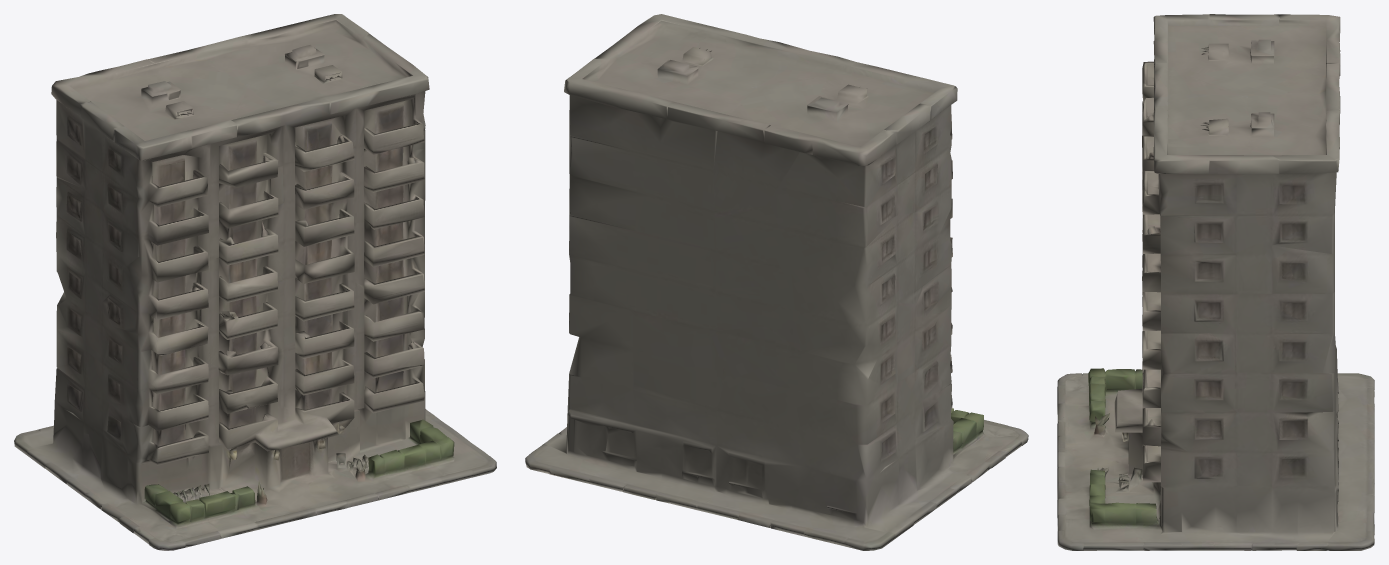
The model's file is lagos_tower_b.glb.
The picture shows the model from 3 angles, left to right: view 1: azimuth 30°, elevation 25°; view 2: azimuth 150°, elevation 25°; view 3: azimuth 270°, elevation 25°; orthographic projection. The views are drawn at different scales.
Parts seen in each view (by area): view 1: tripo_node_39b979a1-fc1a-4c19-9675-e0ddb55643b4; view 2: tripo_node_39b979a1-fc1a-4c19-9675-e0ddb55643b4; view 3: tripo_node_39b979a1-fc1a-4c19-9675-e0ddb55643b4.
Boxes of the visible parts, box(x1,y1,x2,y2) form: tripo_node_39b979a1-fc1a-4c19-9675-e0ddb55643b4: box(14, 14, 496, 550); tripo_node_39b979a1-fc1a-4c19-9675-e0ddb55643b4: box(525, 14, 1028, 550); tripo_node_39b979a1-fc1a-4c19-9675-e0ddb55643b4: box(1057, 14, 1374, 550).
Size of the model in its own units: 0.9637 by 1 by 0.7479.
1 material, 1 textured.
